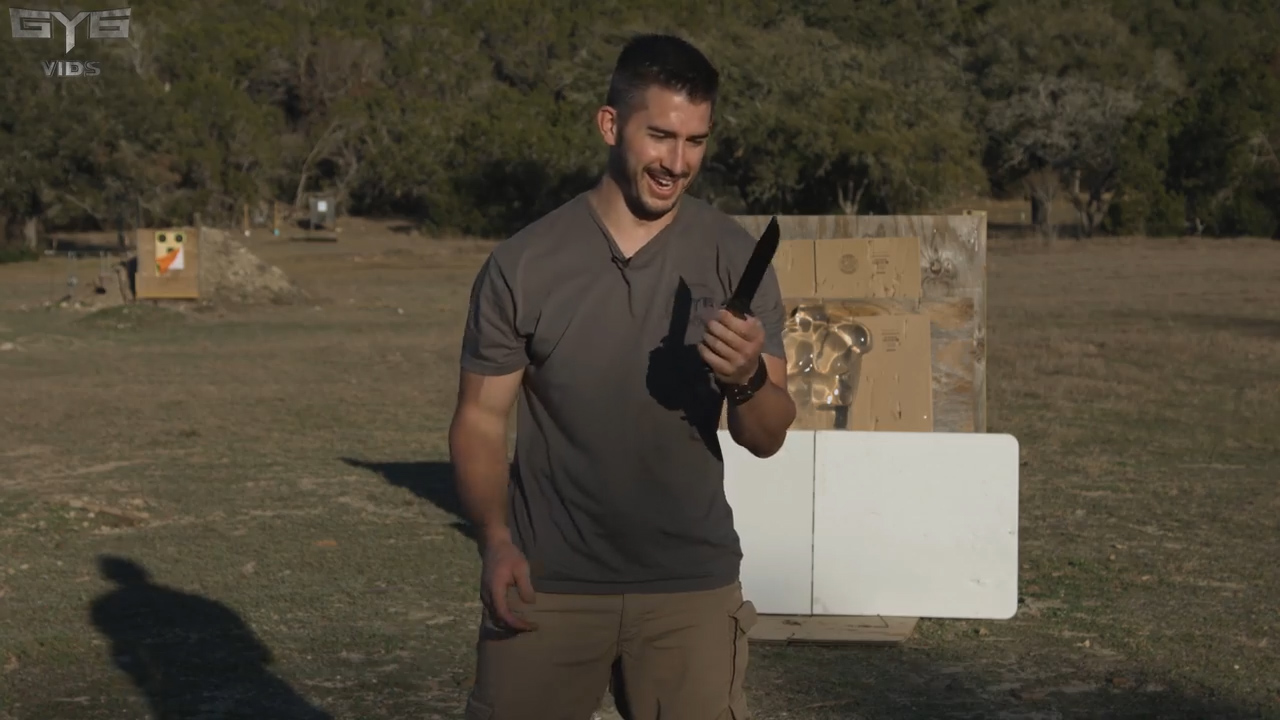knife: (699, 206, 792, 368)
